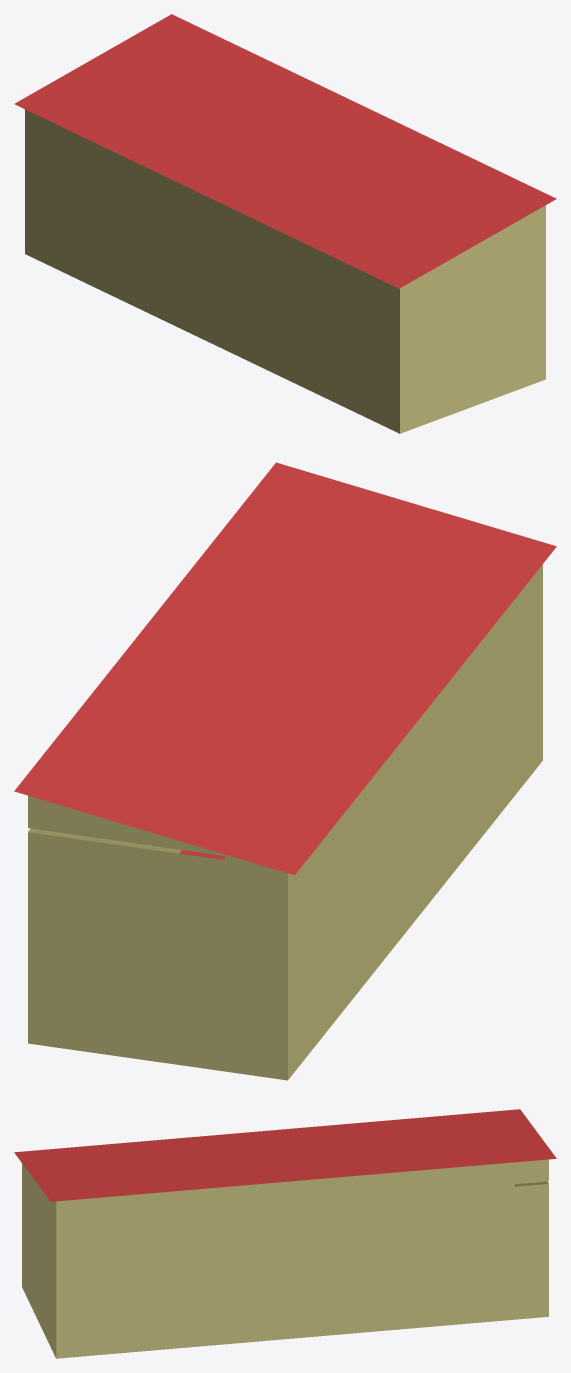
3 views of the same model, one above another, from view 1: azimuth 30°, elevation 25°; view 2: azimuth 150°, elevation 25°; view 3: azimuth 270°, elevation 25° (orthographic). The views are drawn at different scales.
Size of the model in its own units: 10.32 by 19.7 by 6.42.
